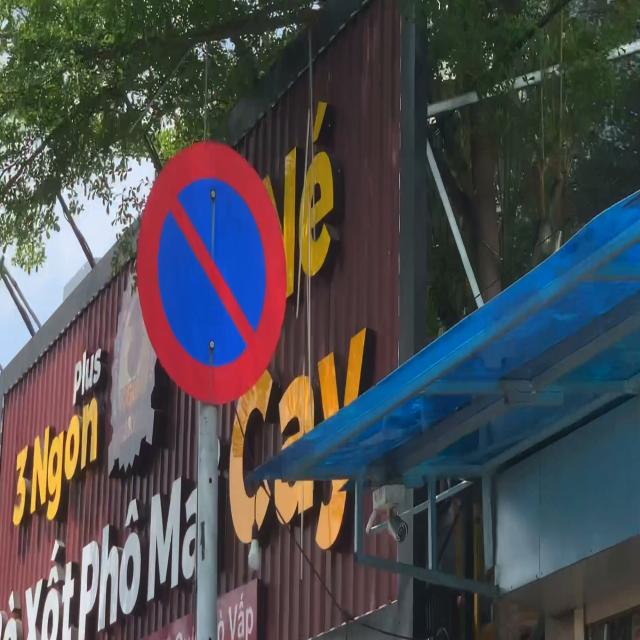Cam do: (134, 132, 287, 413)
